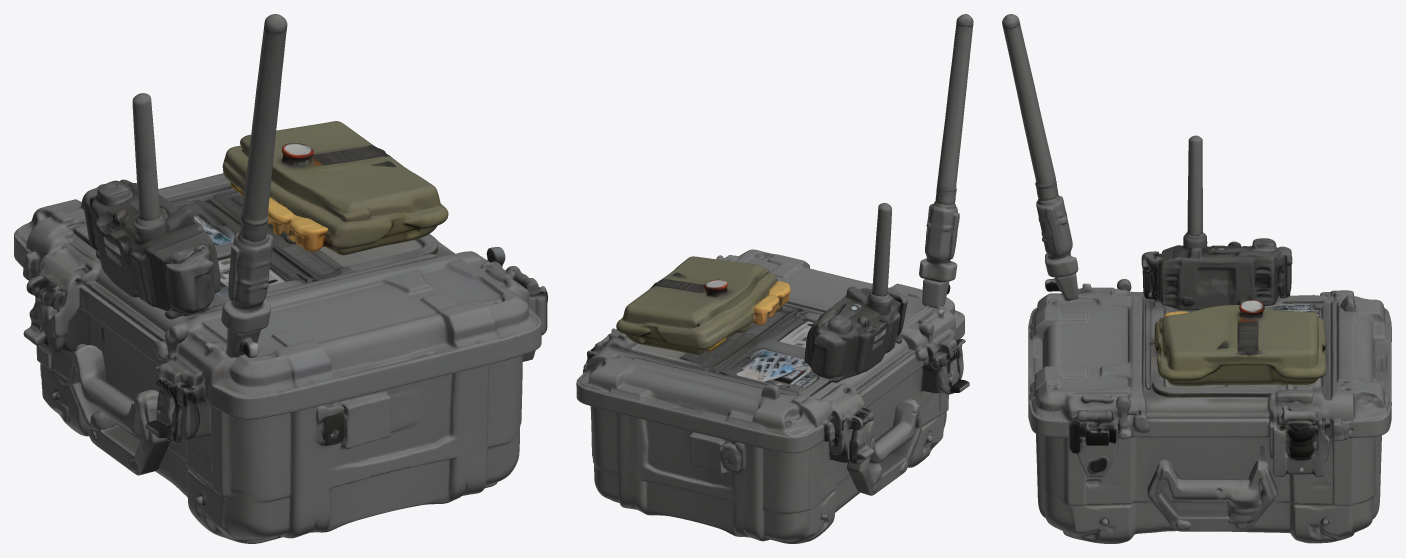
File: prop_expedition_radio_station.glb
The picture shows the model from 3 angles, left to right: view 1: azimuth 30°, elevation 25°; view 2: azimuth 150°, elevation 25°; view 3: azimuth 270°, elevation 25°; orthographic projection. The views are drawn at different scales.
Parts seen in each view (by area): view 1: tripo_node_0a4e3f66-2cd6-4ce0-ba71-ba6d2677f7e4; view 2: tripo_node_0a4e3f66-2cd6-4ce0-ba71-ba6d2677f7e4; view 3: tripo_node_0a4e3f66-2cd6-4ce0-ba71-ba6d2677f7e4.
Part boxes in pixels (bbox=[...]): tripo_node_0a4e3f66-2cd6-4ce0-ba71-ba6d2677f7e4: bbox=[14, 14, 547, 543]; tripo_node_0a4e3f66-2cd6-4ce0-ba71-ba6d2677f7e4: bbox=[576, 14, 973, 543]; tripo_node_0a4e3f66-2cd6-4ce0-ba71-ba6d2677f7e4: bbox=[1002, 14, 1391, 543].
Size of the model in its own units: 0.7118 by 1 by 0.8196.
Materials: 1 (1 with a texture image).
